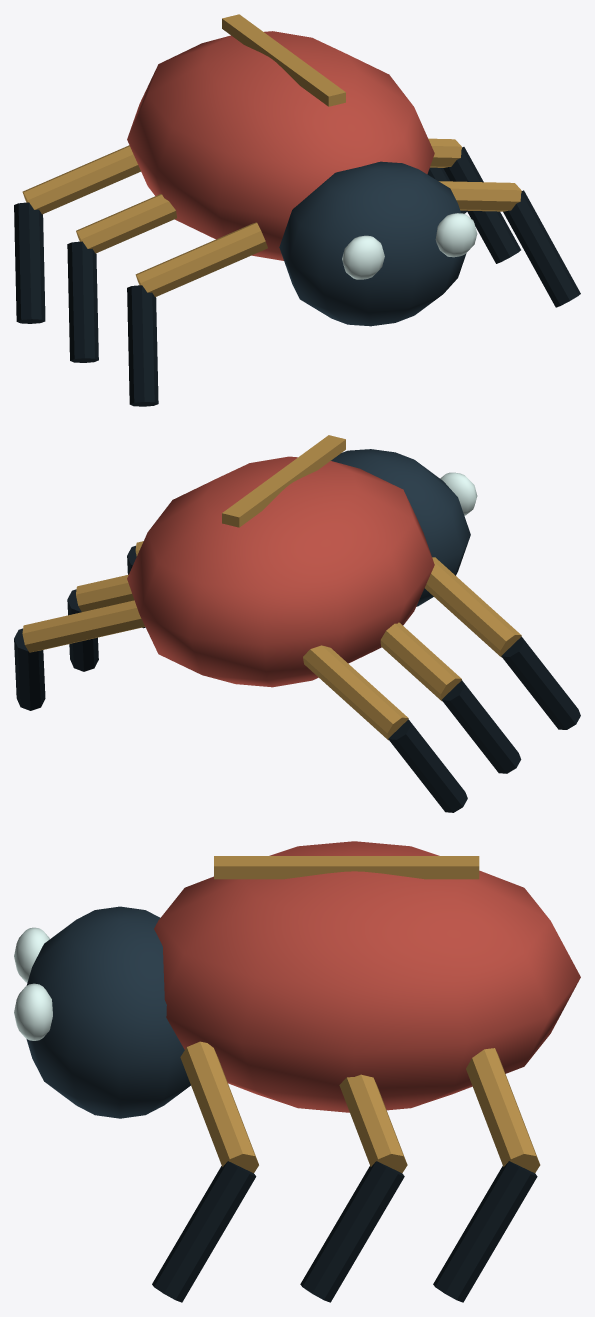
File: enemy-bug.glb
3 views of the same model, one above another, from view 1: azimuth 30°, elevation 25°; view 2: azimuth 150°, elevation 25°; view 3: azimuth 270°, elevation 25° (orthographic). The views are drawn at different scales.
Visible parts, largest first — view 1: enemy-bug; view 2: enemy-bug; view 3: enemy-bug.
Part boxes in pixels (x1=…): enemy-bug: x1=14, y1=14, x2=580, y2=406; enemy-bug: x1=14, y1=435, x2=580, y2=812; enemy-bug: x1=14, y1=841, x2=580, y2=1302.
Size of the model in its own units: 0.8212 by 0.4421 by 0.726.
